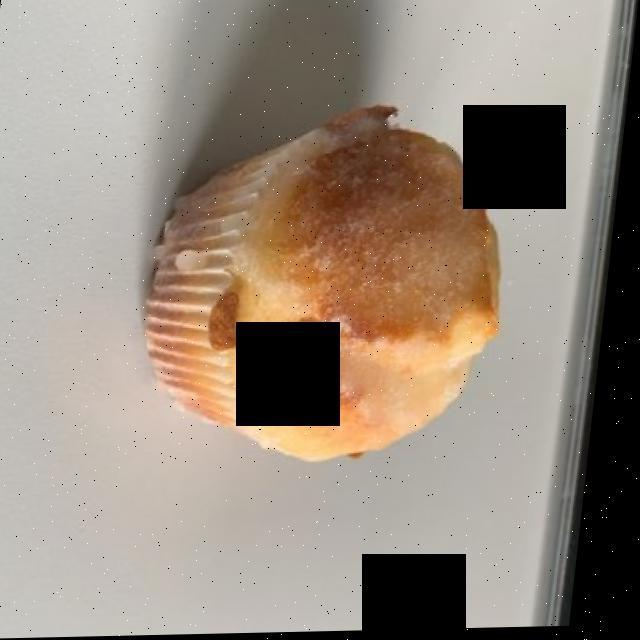pie: (132, 107, 504, 466)
sugar-glazing: (324, 197, 502, 438)
